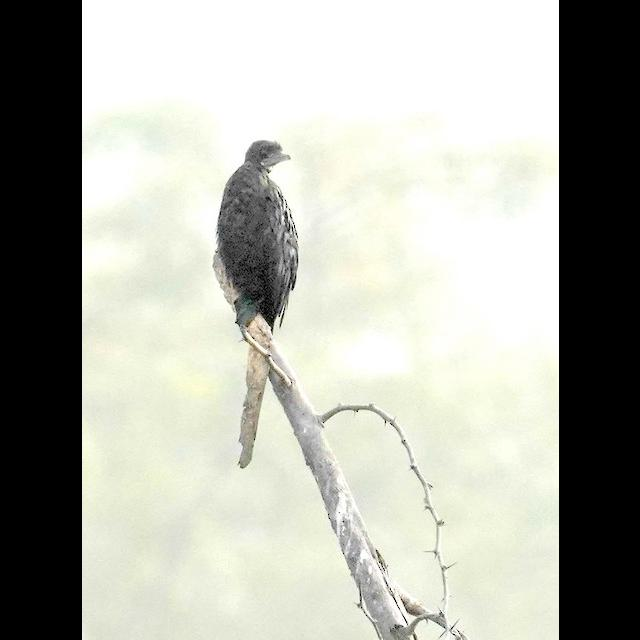cormorant: (220, 137, 308, 457)
